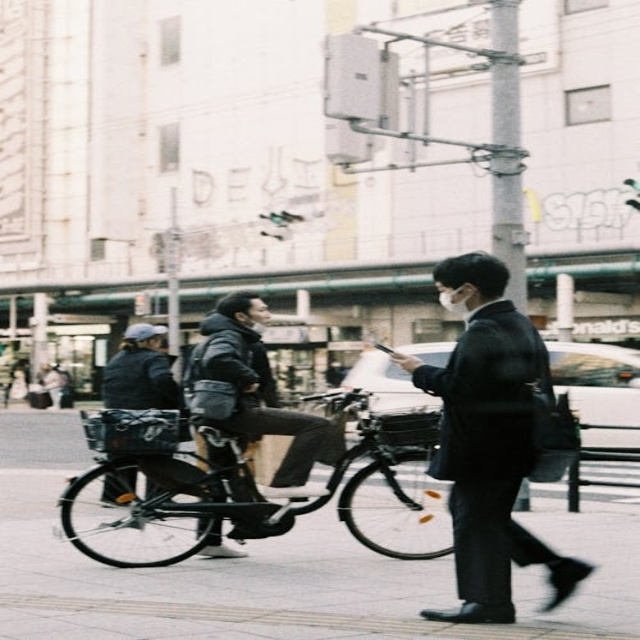Mascara: (431, 285, 465, 322)
Sin_gafas: (435, 284, 457, 296), (251, 304, 273, 315)
Sin_mascara: (256, 317, 274, 328)
